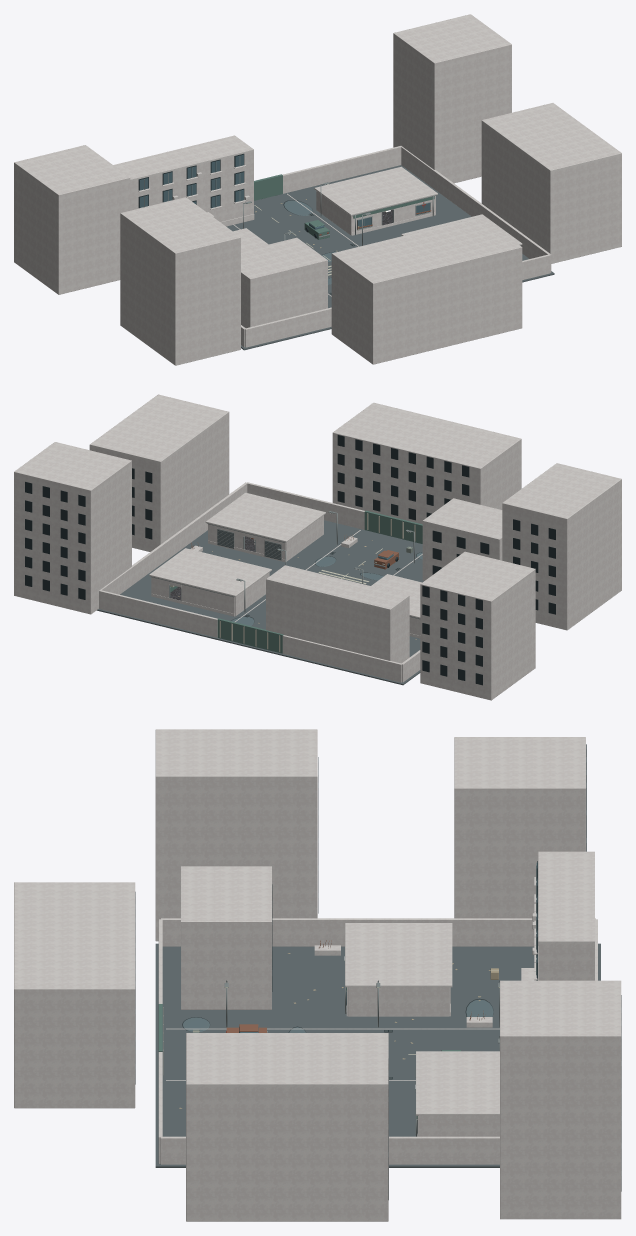
Rendered from south_district.glb.
3 renders of one model, top to bottom at view 1: azimuth 30°, elevation 25°; view 2: azimuth 150°, elevation 25°; view 3: azimuth 270°, elevation 25°, orthographic. The views are drawn at different scales.
Visible parts, largest first — view 1: district_concrete, district_plaster, district_asphalt, district_glass, district_paint, district_metal, district_dark; view 2: district_concrete, district_plaster, district_dark, district_asphalt, district_paint, district_metal, district_marking, district_water; view 3: district_concrete, district_asphalt, district_plaster, district_dark, district_water.
Part boxes in pixels (<box>): district_concrete: <box>14,14,621,365</box>; district_plaster: <box>113,135,435,235</box>; district_asphalt: <box>226,165,554,350</box>; district_glass: <box>139,154,429,229</box>; district_paint: <box>254,174,434,239</box>; district_metal: <box>144,156,520,293</box>; district_dark: <box>138,153,430,294</box>; district_concrete: <box>14,394,621,700</box>; district_plaster: <box>151,515,420,663</box>; district_dark: <box>25,435,555,685</box>; district_asphalt: <box>97,520,424,685</box>; district_paint: <box>170,510,422,653</box>; district_metal: <box>150,511,419,619</box>; district_marking: <box>170,513,415,652</box>; district_water: <box>231,552,422,625</box>; district_concrete: <box>14,729,621,1221</box>; district_asphalt: <box>155,943,600,1167</box>; district_plaster: <box>347,851,594,1136</box>; district_dark: <box>135,744,621,1199</box>; district_water: <box>182,998,493,1032</box>.
Size of the model in its own units: 79 by 20.2 by 60.06.
15 materials, 3 textured.
